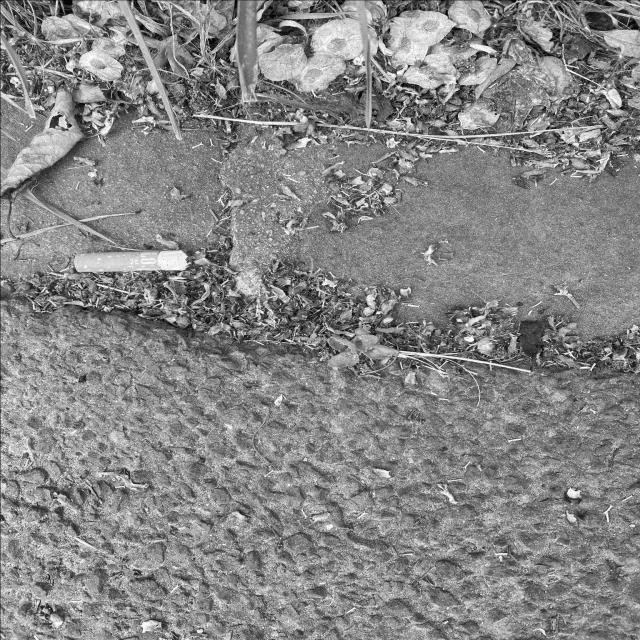other waste: (74, 250, 190, 272)
